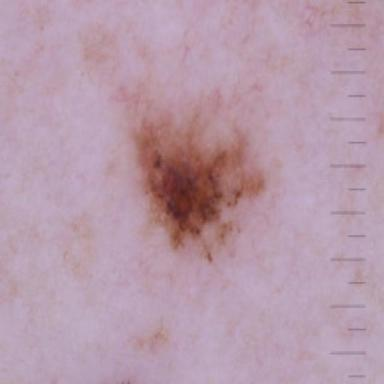Melanoma: (119, 82, 264, 260)
